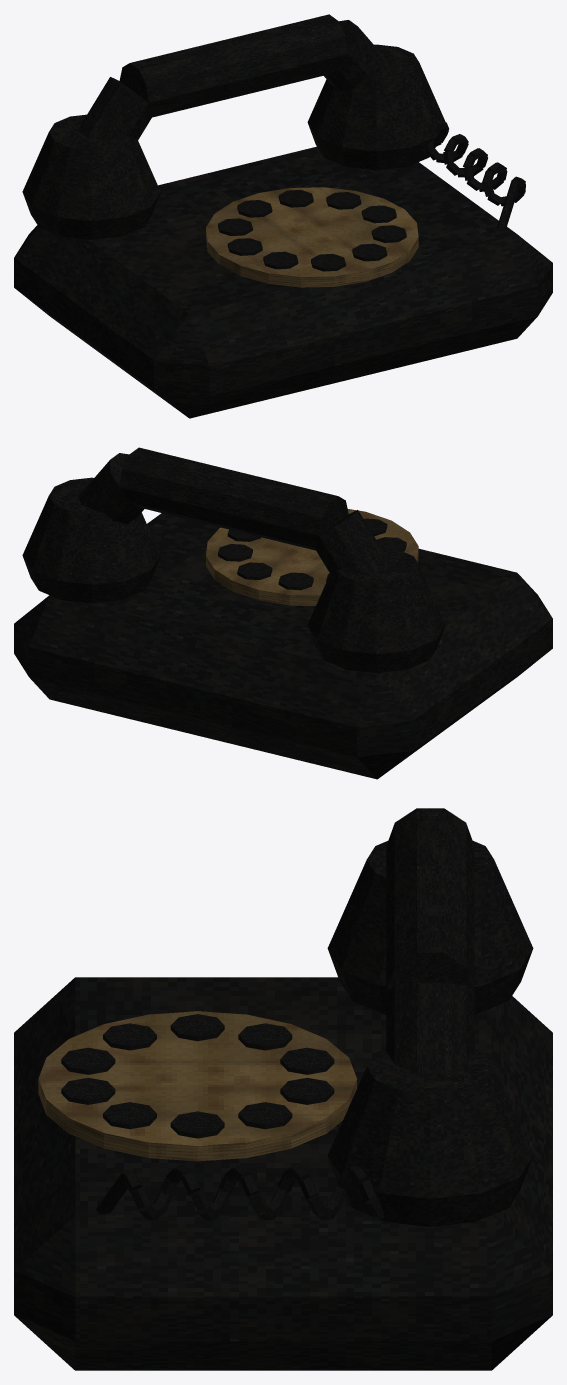
File: level_event_phone_worn.glb
3 renders of one model, top to bottom at view 1: azimuth 30°, elevation 25°; view 2: azimuth 150°, elevation 25°; view 3: azimuth 270°, elevation 25°, orthographic. The views are drawn at different scales.
Parts seen in each view (by area): view 1: level_event_phone_worn; view 2: level_event_phone_worn; view 3: level_event_phone_worn.
Part boxes in pixels (bbox=[...]): level_event_phone_worn: bbox=[14, 14, 552, 418]; level_event_phone_worn: bbox=[14, 447, 552, 779]; level_event_phone_worn: bbox=[14, 808, 552, 1370].
Size of the model in its own units: 0.284 by 0.1671 by 0.22.
Materials: 2 (2 with a texture image).
